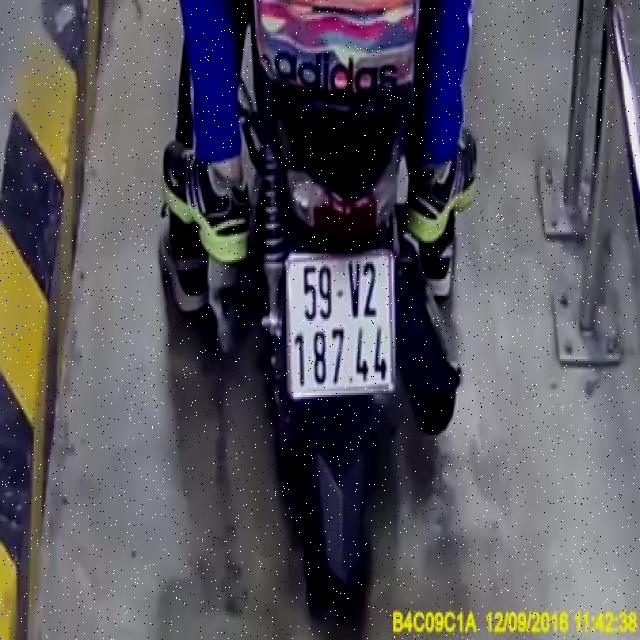1: (291, 331, 306, 386)
2: (361, 261, 378, 317)
4: (371, 323, 387, 381), (354, 329, 370, 380)
5: (301, 264, 318, 322)
7: (329, 327, 344, 385)
8: (312, 332, 331, 386)
9: (317, 263, 334, 322)
V: (346, 260, 362, 320)
